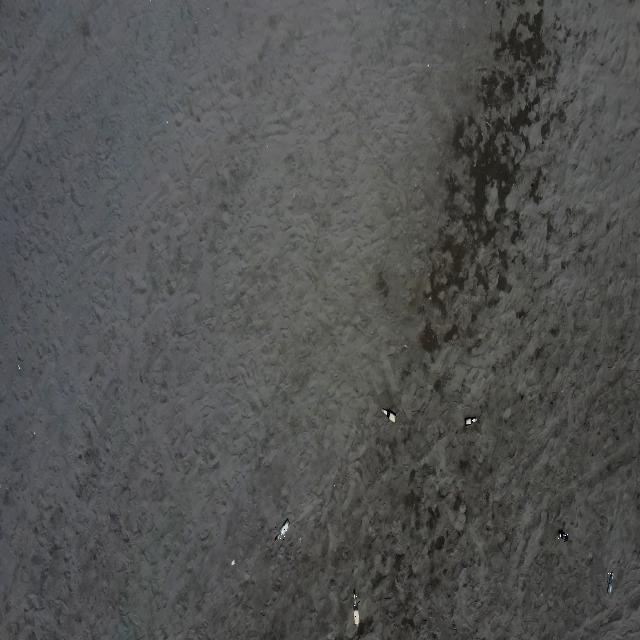glass: (274, 520, 290, 543), (352, 591, 360, 630), (382, 408, 396, 424), (608, 572, 616, 596), (464, 417, 478, 426), (558, 530, 568, 540)
